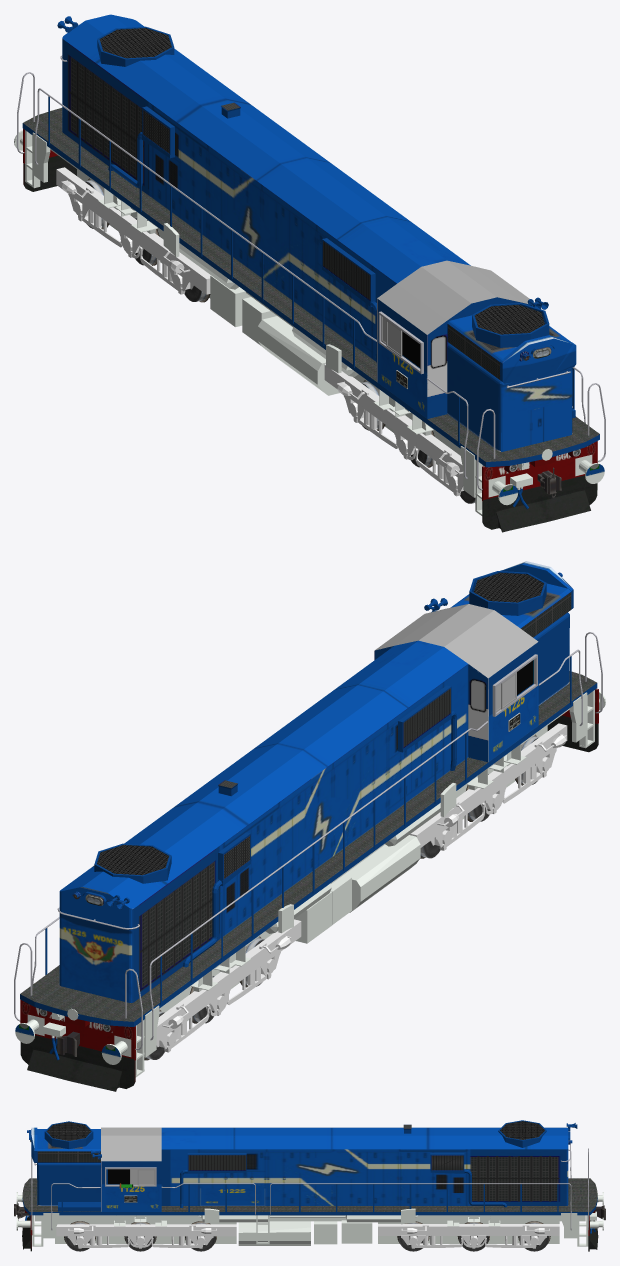
Rendered from loco_wdg3a_vatva.glb.
The picture shows the model from 3 angles, top to bottom: view 1: azimuth 30°, elevation 25°; view 2: azimuth 150°, elevation 25°; view 3: azimuth 270°, elevation 25°; orthographic projection. The views are drawn at different scales.
Parts seen in each view (by area): view 1: wdg_3a_vatva__indian_railway_wdg3a_goc_13449.glb; view 2: wdg_3a_vatva__indian_railway_wdg3a_goc_13449.glb; view 3: wdg_3a_vatva__indian_railway_wdg3a_goc_13449.glb.
Boxes of the visible parts, x1,y1,x2,y2 form: wdg_3a_vatva__indian_railway_wdg3a_goc_13449.glb: (14,14,605,532); wdg_3a_vatva__indian_railway_wdg3a_goc_13449.glb: (14,561,605,1091); wdg_3a_vatva__indian_railway_wdg3a_goc_13449.glb: (14,1120,605,1251).
Bounding box in the file's own units: 3.22 × 4.32 × 20.06.
5 materials, 4 textured.
